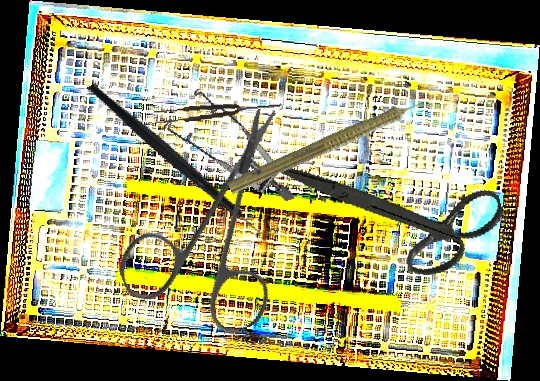Chopper: (85, 39, 281, 281)
Handpiece: (225, 86, 442, 203)
Iris Scissors: (82, 103, 346, 365), (273, 113, 514, 306)
Speculum: (152, 70, 297, 231)
Tissue Forceps: (152, 98, 283, 125)
